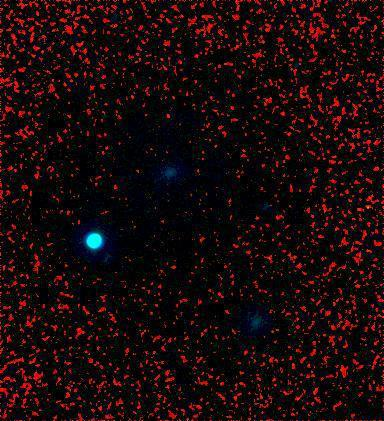star: (252, 244, 282, 274)
